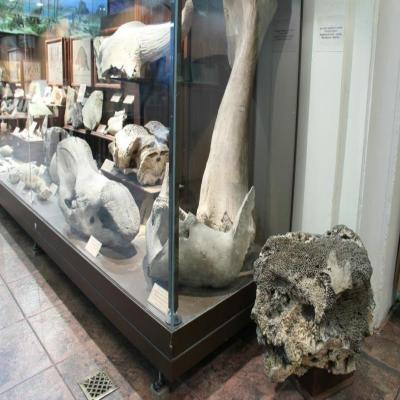natural_science_collection: (250, 225, 375, 390), (48, 134, 144, 260), (179, 187, 256, 290), (110, 124, 168, 187), (143, 193, 170, 290)
